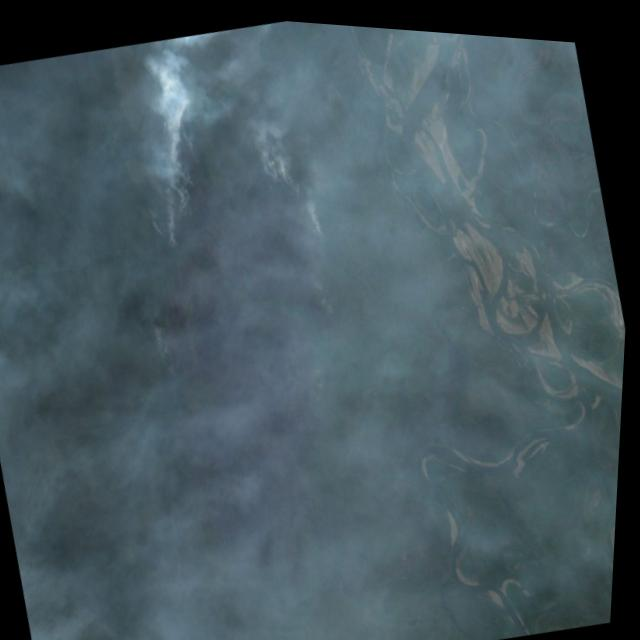fire: (116, 60, 355, 307)
